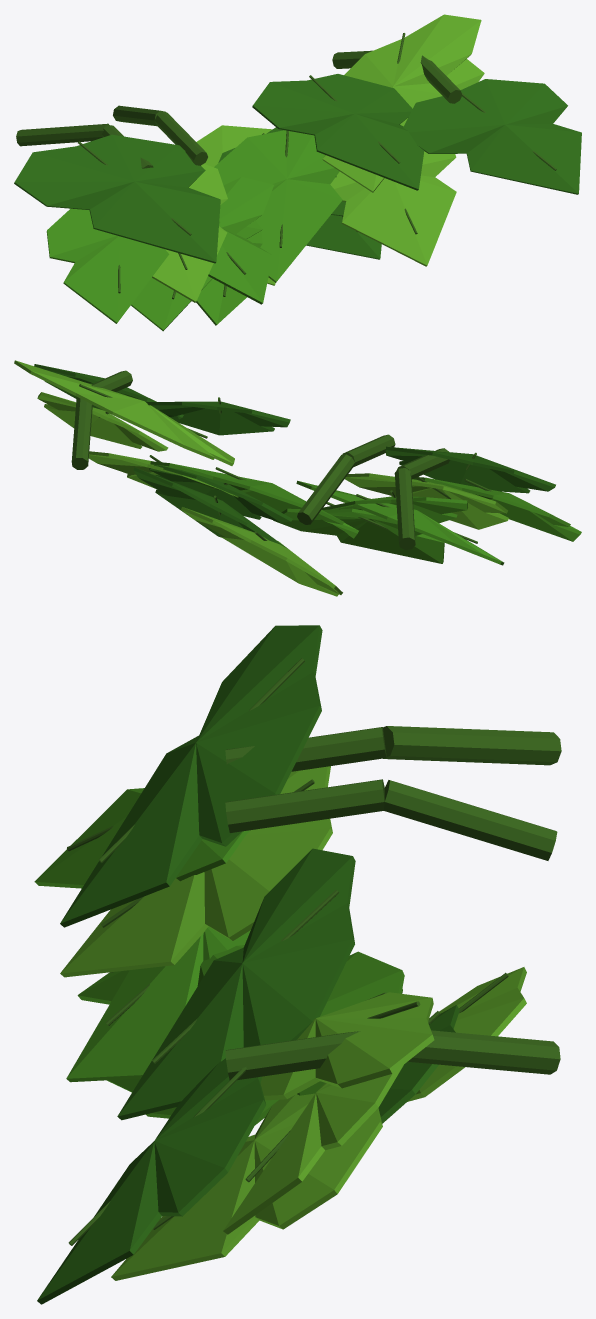
The model's file is cliff-vine-crown.glb.
The picture shows the model from 3 angles, top to bottom: view 1: azimuth 30°, elevation 25°; view 2: azimuth 150°, elevation 25°; view 3: azimuth 270°, elevation 25°; orthographic projection. The views are drawn at different scales.
Parts seen in each view (by area): view 1: Leafy lip crown 12, Leafy lip crown 3, Leafy lip crown 9, Leafy lip crown 10, Leafy lip crown 11, Leafy lip crown 4, Leafy lip crown 14, Leafy lip crown 7, Leafy lip crown 13, Leafy lip crown 5, Leafy lip crown 0, Hidden crown runner 2.0 (+7 smaller); view 2: Leafy lip crown 14, Leafy lip crown 1, Leafy lip crown 12, Leafy lip crown 9, Leafy lip crown 8, Leafy lip crown 5, Leafy lip crown 0, Leafy lip crown 2, Leafy lip crown 10, Leafy lip crown 4, Leafy lip crown 6, Leafy lip crown 7 (+9 smaller); view 3: Leafy lip crown 12, Leafy lip crown 9, Leafy lip crown 3, Leafy lip crown 5, Leafy lip crown 11, Leafy lip crown 13, Leafy lip crown 14, Leafy lip crown 2, Hidden crown runner 2.0, Hidden crown runner 0.0, Hidden crown runner 0.1, Leafy lip crown 4 (+7 smaller).
Boxes of the visible parts, x1,y1,x2,y2 form: Leafy lip crown 12: (14, 134, 220, 263); Leafy lip crown 3: (403, 79, 581, 194); Leafy lip crown 9: (252, 74, 424, 190); Leafy lip crown 10: (214, 130, 342, 282); Leafy lip crown 11: (330, 151, 456, 266); Leafy lip crown 4: (46, 208, 169, 323); Leafy lip crown 14: (322, 14, 481, 192); Leafy lip crown 7: (131, 177, 273, 331); Leafy lip crown 13: (208, 220, 272, 304); Leafy lip crown 5: (152, 164, 227, 302); Leafy lip crown 0: (218, 127, 381, 259); Hidden crown runner 2.0: (16, 123, 108, 146); Leafy lip crown 14: (14, 360, 234, 465); Leafy lip crown 1: (273, 508, 444, 563); Leafy lip crown 12: (385, 446, 555, 493); Leafy lip crown 9: (146, 401, 290, 435); Leafy lip crown 8: (181, 507, 342, 596); Leafy lip crown 5: (345, 473, 508, 529); Leafy lip crown 0: (133, 467, 287, 548); Leafy lip crown 2: (37, 392, 168, 451); Leafy lip crown 10: (150, 461, 358, 538); Leafy lip crown 4: (413, 477, 581, 541); Leafy lip crown 6: (149, 465, 292, 522); Leafy lip crown 7: (296, 480, 504, 565); Leafy lip crown 12: (60, 625, 322, 927); Leafy lip crown 9: (117, 848, 355, 1120); Leafy lip crown 3: (37, 1058, 265, 1304); Leafy lip crown 5: (60, 766, 332, 977); Leafy lip crown 11: (111, 1093, 382, 1280); Leafy lip crown 13: (66, 926, 250, 1082); Leafy lip crown 14: (260, 992, 434, 1100); Leafy lip crown 2: (223, 1065, 403, 1234); Hidden crown runner 2.0: (383, 726, 561, 765); Hidden crown runner 0.0: (384, 780, 557, 860); Hidden crown runner 0.1: (225, 779, 384, 832); Leafy lip crown 4: (34, 788, 250, 888).
Bounding box in the file's own units: 0.5866 × 0.1967 × 0.2522.
